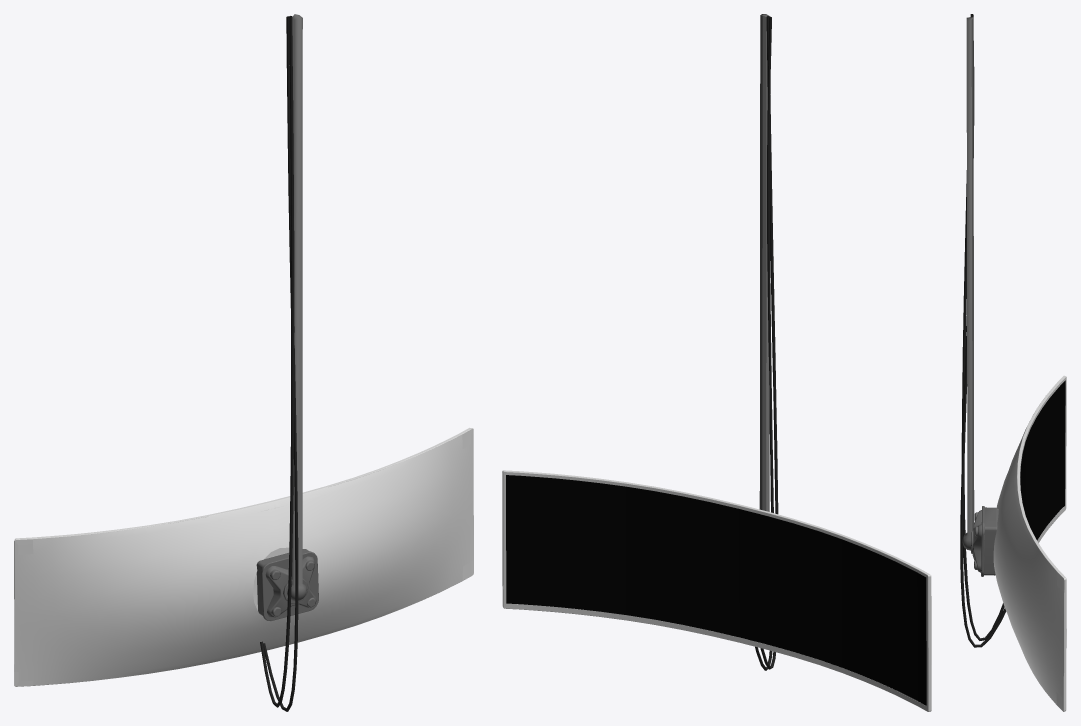
Rendered from WideMonitor.glb.
3 renders of one model, left to right at view 1: azimuth 30°, elevation 25°; view 2: azimuth 150°, elevation 25°; view 3: azimuth 270°, elevation 25°, orthographic. The views are drawn at different scales.
Parts seen in each view (by area): view 1: MonitorMount_ComputerScreen_Baked, MonitorMount_ComputerMain, Cable_ComputerMain_2, Cable_ComputerMain_1; view 2: VideoTexture-Widescreen, MonitorMount_ComputerScreen_Baked, MonitorMount_ComputerMain, Cable_ComputerMain_1, Cable_ComputerMain_2; view 3: MonitorMount_ComputerScreen_Baked, MonitorMount_ComputerMain, VideoTexture-Widescreen, Cable_ComputerMain_1, Cable_ComputerMain_2.
Part boxes in pixels (x1,y1,x2,y2): MonitorMount_ComputerScreen_Baked: (14,428,473,686); MonitorMount_ComputerMain: (256,14,318,621); Cable_ComputerMain_2: (260,16,294,707); Cable_ComputerMain_1: (263,16,298,711); VideoTexture-Widescreen: (506,475,926,705); MonitorMount_ComputerScreen_Baked: (502,470,931,711); MonitorMount_ComputerMain: (759,14,769,511); Cable_ComputerMain_1: (755,16,773,670); Cable_ComputerMain_2: (760,16,778,669); MonitorMount_ComputerScreen_Baked: (993,375,1066,711); MonitorMount_ComputerMain: (962,17,998,576); VideoTexture-Widescreen: (1020,380,1065,540); Cable_ComputerMain_1: (960,14,1006,647); Cable_ComputerMain_2: (961,15,1004,640).
Bounding box in the file's own units: 1.11 × 1.61 × 0.2455.
4 materials, 1 textured.
